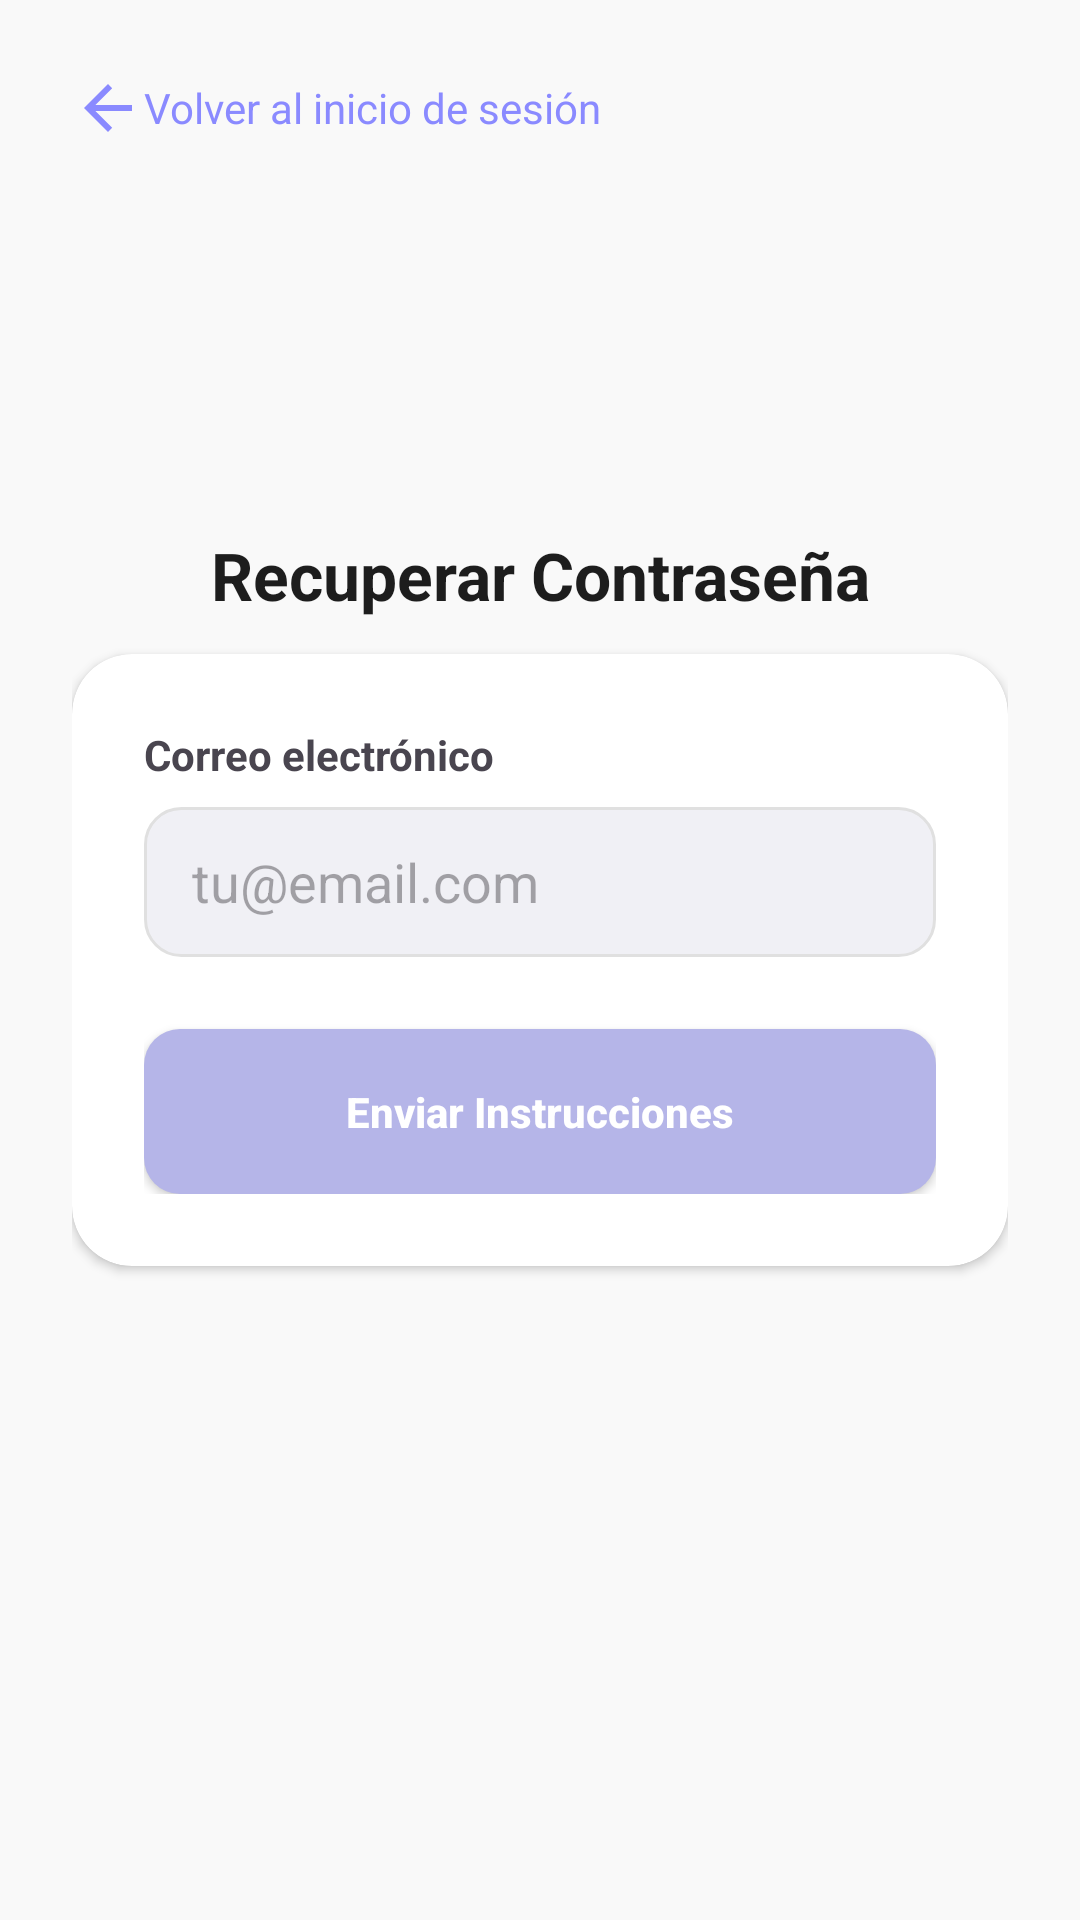

Named icons in this screenshot (1080*1920) and their bounding boxes, {"left": x1, "top": y1, "right": x2, "bottom": y2}:
ab back: {"left": 84, "top": 84, "right": 132, "bottom": 132}
